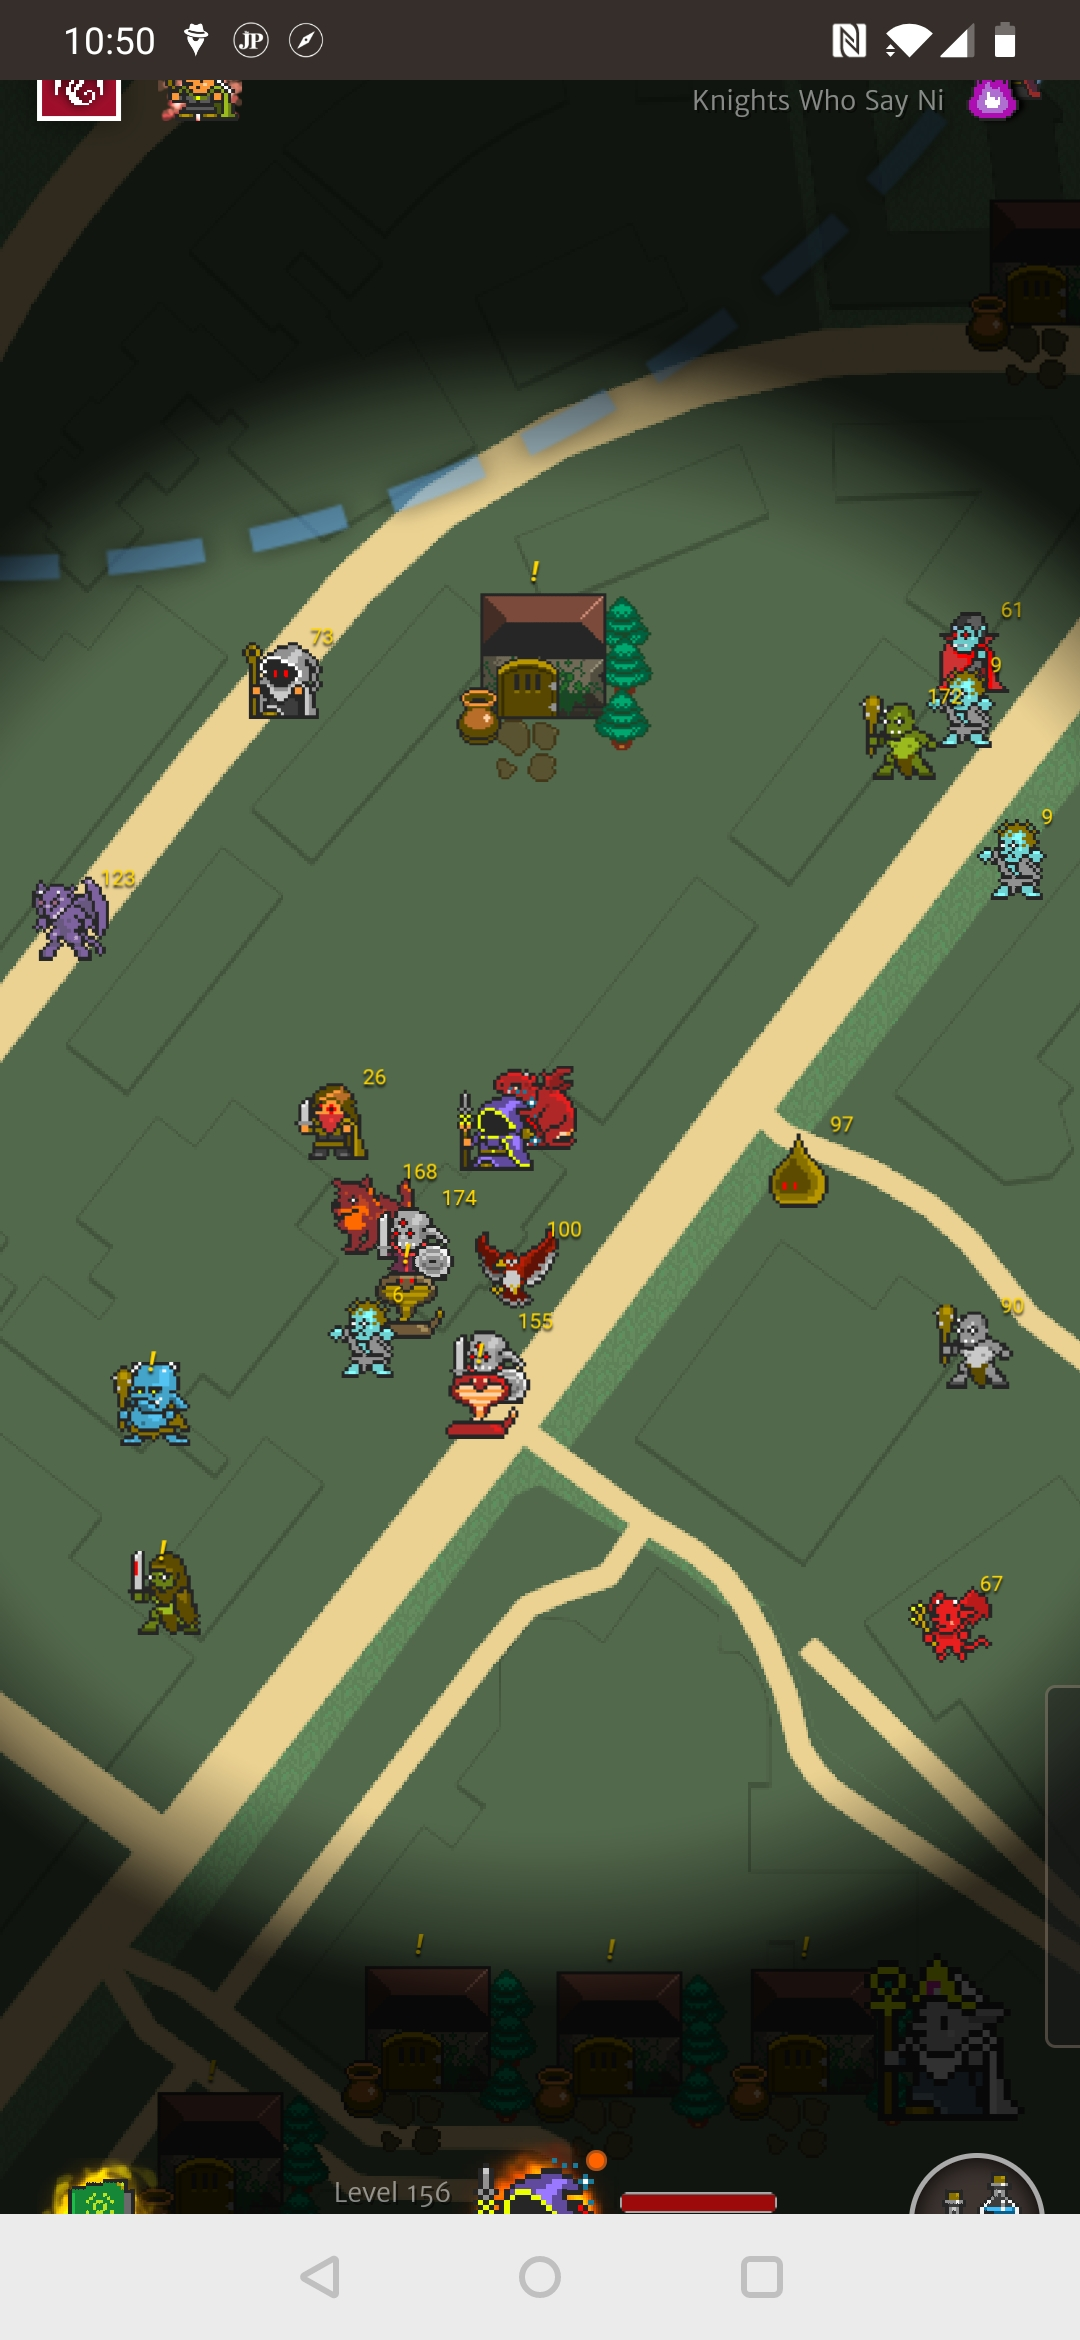monster: (108, 1347, 215, 1454), (922, 1289, 1026, 1393), (122, 1534, 222, 1634), (26, 871, 120, 965), (901, 1575, 995, 1669), (857, 685, 950, 778), (760, 1120, 850, 1210), (981, 809, 1070, 898), (243, 637, 329, 723), (450, 1368, 536, 1454), (477, 1230, 560, 1313), (295, 1075, 377, 1157), (343, 1299, 422, 1378)
player: (453, 1089, 550, 1186)
